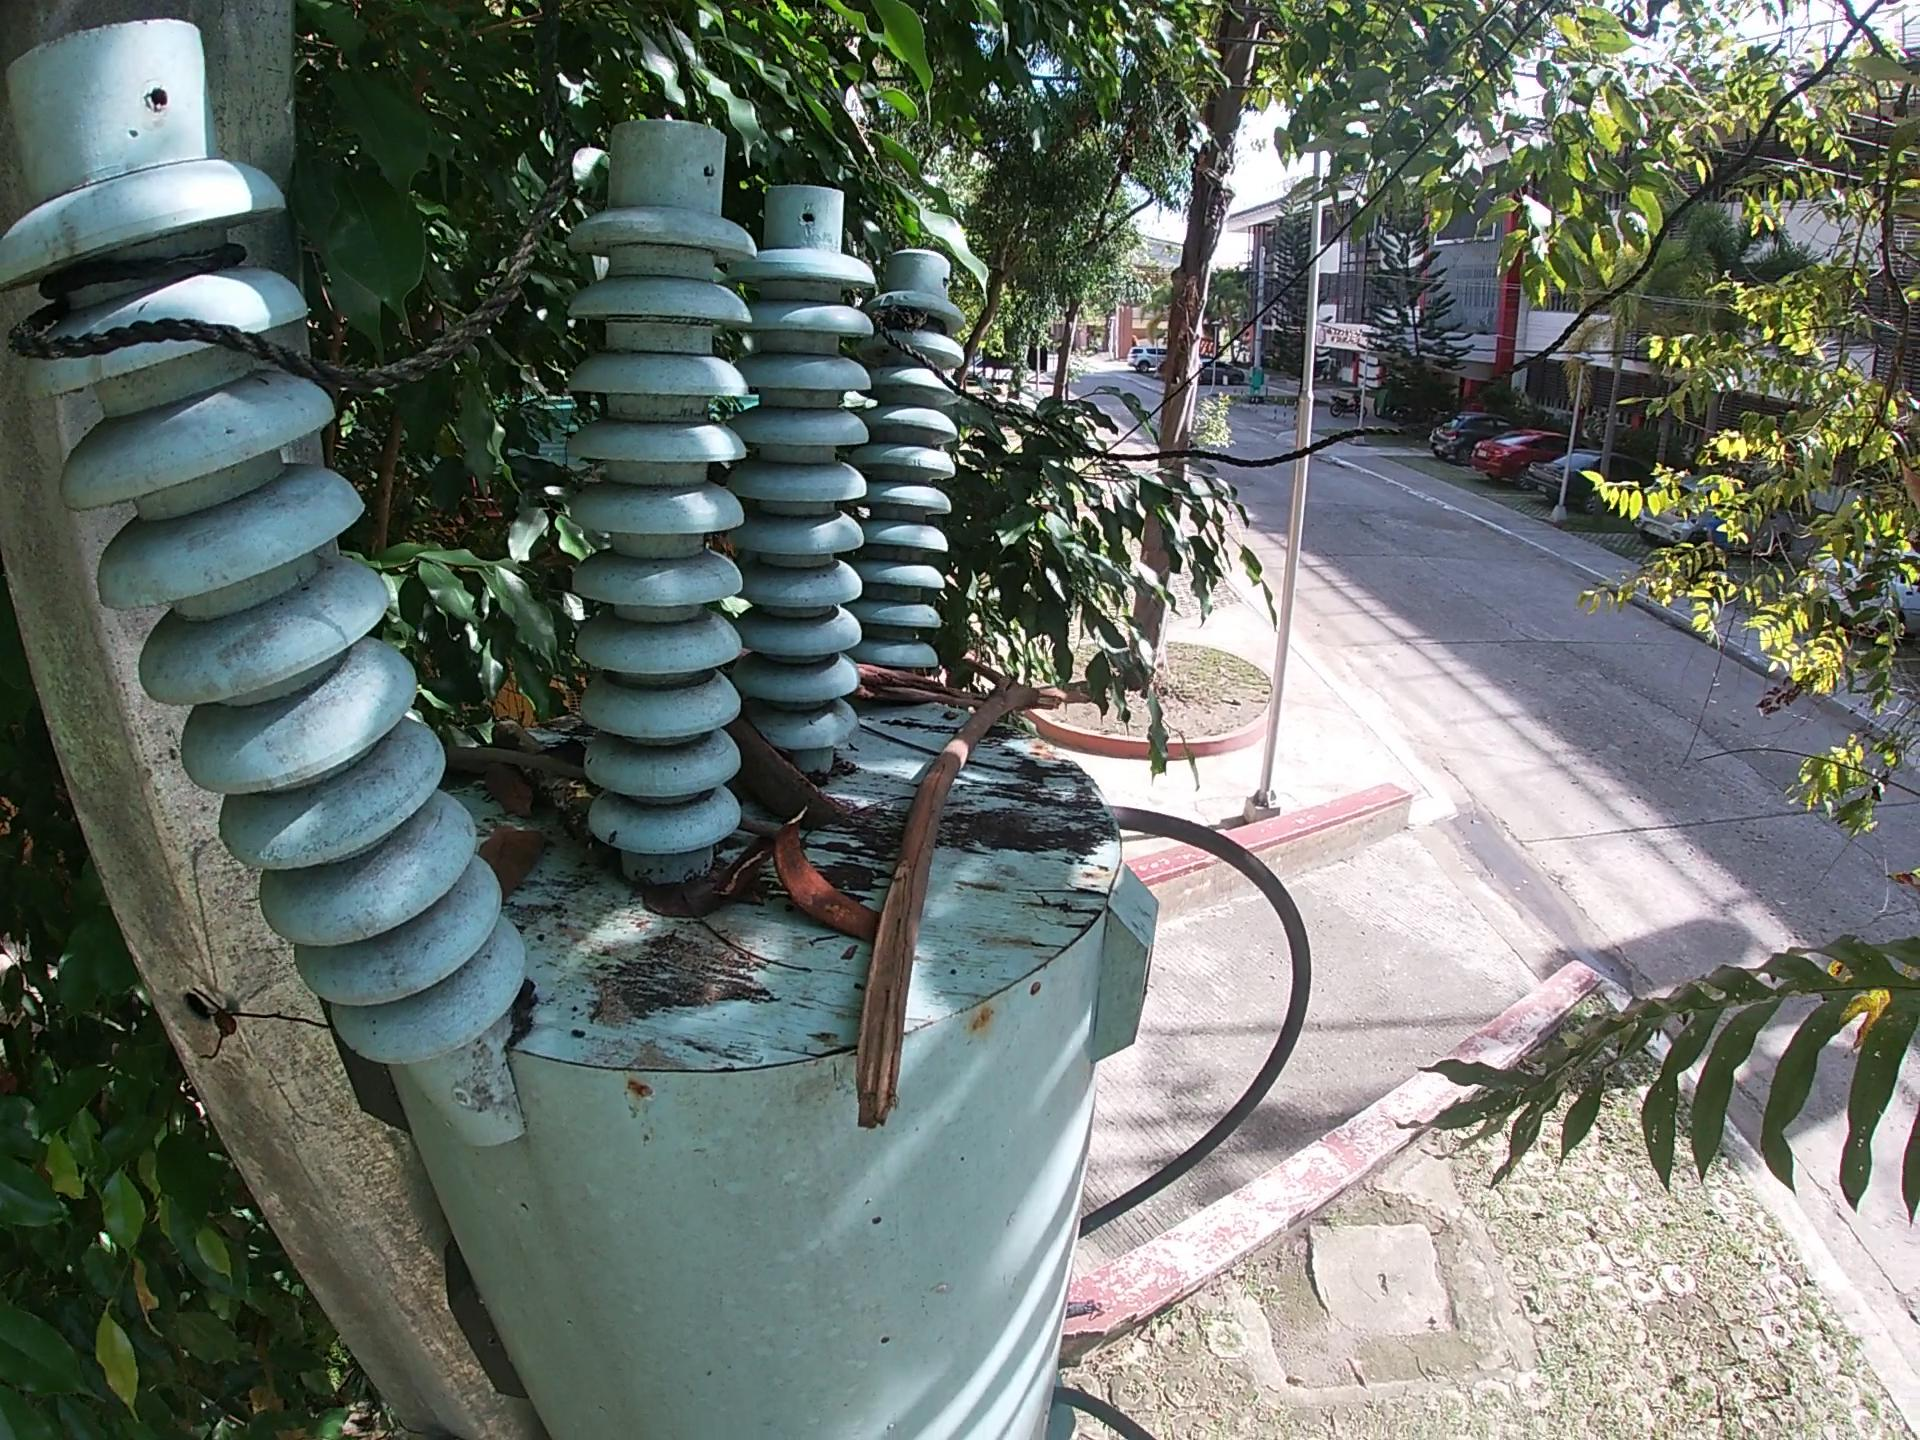leaf: (470, 814, 547, 905), (629, 877, 723, 924), (479, 759, 537, 820)
mahogany fruit: (774, 805, 881, 948), (727, 715, 848, 833), (717, 832, 776, 897)
tree branch: (851, 653, 1070, 1137), (485, 717, 623, 868), (847, 659, 987, 711), (441, 740, 584, 784), (735, 814, 783, 838)
